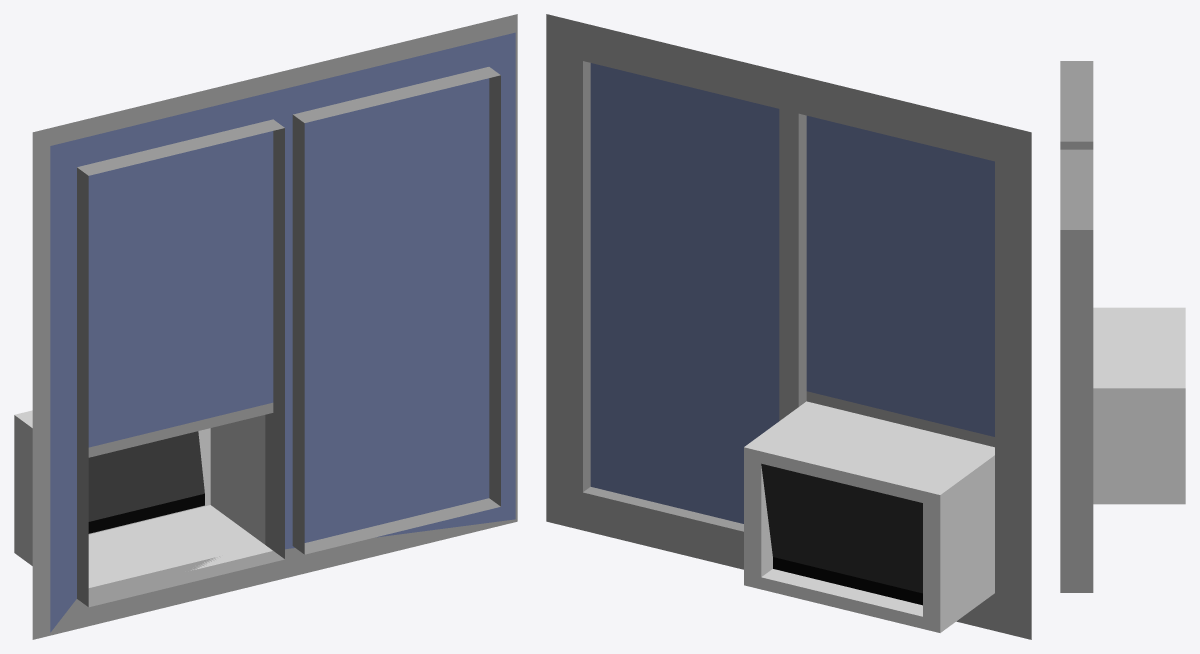
The model's file is Window-Airco.fbx.
3 renders of one model, left to right at view 1: azimuth 30°, elevation 25°; view 2: azimuth 150°, elevation 25°; view 3: azimuth 270°, elevation 25°, orthographic. The views are drawn at different scales.
Visible parts, largest first — view 1: WindowAirco; view 2: WindowAirco; view 3: WindowAirco.
Boxes of the visible parts, left/top/right/bottom form: WindowAirco: left=14, top=14, right=517, bottom=639; WindowAirco: left=546, top=14, right=1031, bottom=639; WindowAirco: left=1060, top=61, right=1185, bottom=592.
Size of the model in its own units: 1 by 1 by 0.2659.
